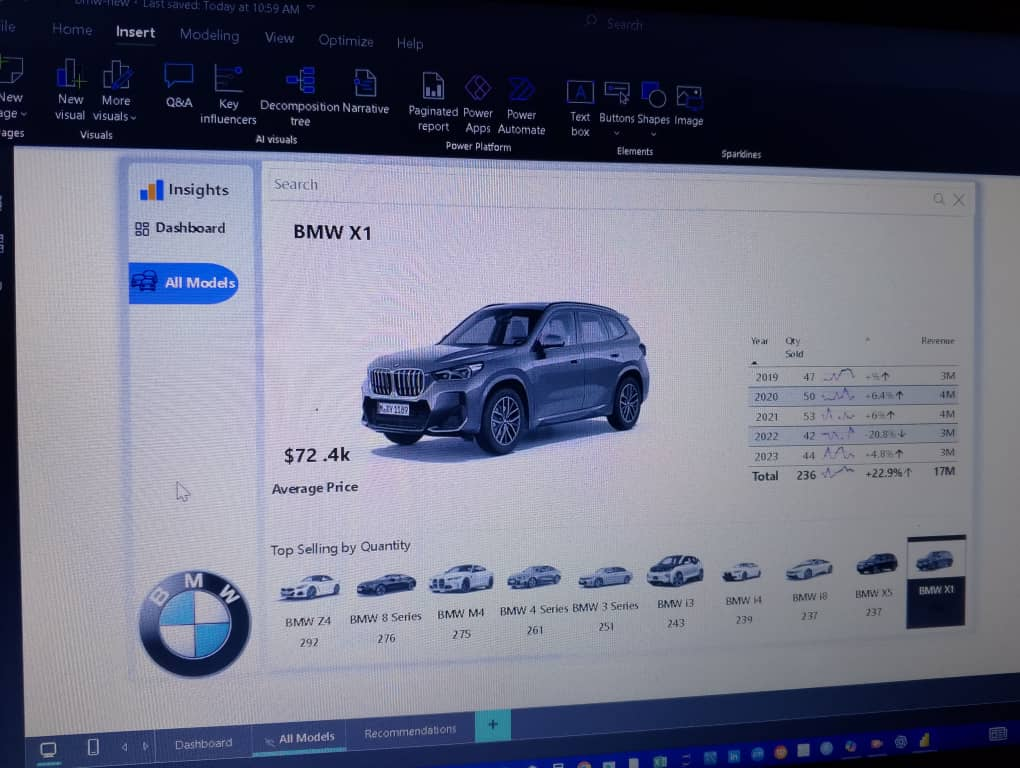

What the dashboard file says about the page in this screenshot:
{"tool":"powerbi","page":{"name":"All Models","canvas":[1280,720],"ordinal":1},"visuals":[{"type":"textSearchSlicerF85E2E78BE4A4D7D9F99ED75B5D71C85","fields":{"fields":["dimModel.Model"]},"box":[188.2,0,1082.9,50],"z":0},{"type":"advancedSlicerVisual","title":"Top Selling by Quantity ","fields":{"Values":["dimModel.Model"]},"box":[188.2,525,1082.9,194.7],"z":1000},{"type":"advancedSlicerVisual","title":"Top Selling by Quantity ","fields":{"Values":["dimModel.Model"]},"box":[188.2,50,720.7,475.3],"z":2000},{"type":"shape","box":[190.6,59.6,225.2,59.6],"z":3000},{"type":"shape","box":[159.2,385.5,194.7,40.8],"z":4000},{"type":"textbox","box":[190.8,435.5,152.6,47.4],"z":5000},{"type":"tableEx","title":"Qty Sold by Countries","fields":{"Values":["Calender.Year","All Measures.Quantity","All Measures.Quantity Sparkline","All Measures.Growth % with Arrow","All Measures.Revenue"]},"box":[883.9,190.6,387.2,334.8],"z":6000},{"type":"textbox","box":[52.6,150,127.6,57.9],"z":7000},{"type":"image","box":[9.2,140.8,43.4,50],"z":8000},{"type":"textbox","box":[40.8,75,118.4,42.1],"z":9000},{"type":"image","box":[9.2,80.3,39.5,31.6],"z":10000},{"type":"actionButton","box":[10.5,72.4,140.8,46.1],"z":11000},{"type":"actionButton","box":[0,140.8,159.2,50],"z":12000},{"type":"image","box":[0,555.3,180.3,164.5],"z":13000},{"type":"textbox","box":[58.4,20,115.8,46.1],"z":14000},{"type":"image","box":[17.6,20,50,43.4],"z":15000}]}

Visuals, with their boxes on the page's 1280x720 design canvas (x1, y1, x2, y2). These are canvas units, not pixel positions in the 1020x768 screenshot, which may show the page scaled, cropped or inside an application window:
textSearchSlicerF85E2E78BE4A4D7D9F99ED75B5D71C85 - dimModel.Model: 188:0:1271:50
"Top Selling by Quantity " advancedSlicerVisual: 188:525:1271:720
"Top Selling by Quantity " advancedSlicerVisual: 188:50:909:525
shape: 191:60:416:119
shape: 159:386:354:426
textbox: 191:436:343:483
"Qty Sold by Countries" tableEx: 884:191:1271:525
textbox: 53:150:180:208
image: 9:141:53:191
textbox: 41:75:159:117
image: 9:80:49:112
actionButton: 10:72:151:118
actionButton: 0:141:159:191
image: 0:555:180:720
textbox: 58:20:174:66
image: 18:20:68:63
